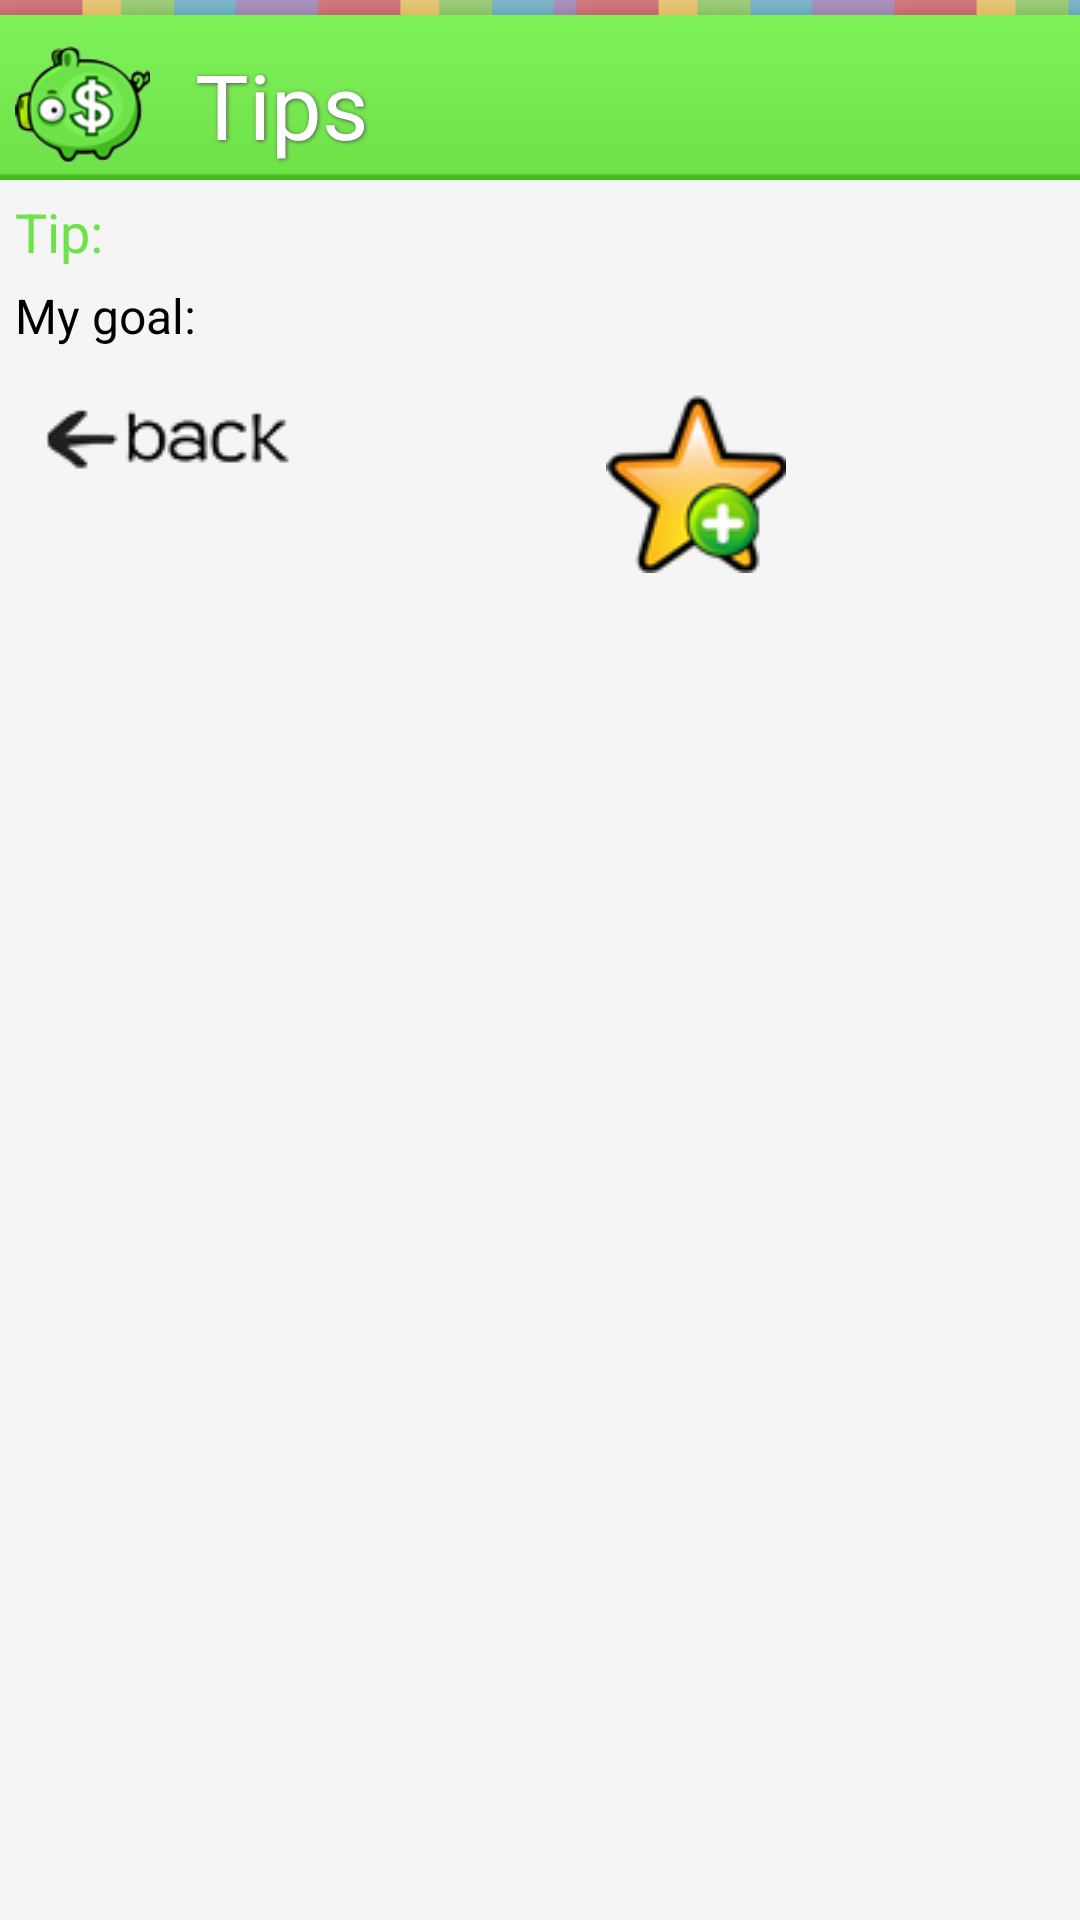

Icon bounding boxes for this 1080 × 1920 phone screenshot, format BBox(x1, y1, x2, y2):
favorito: BBox(606, 395, 786, 573)
